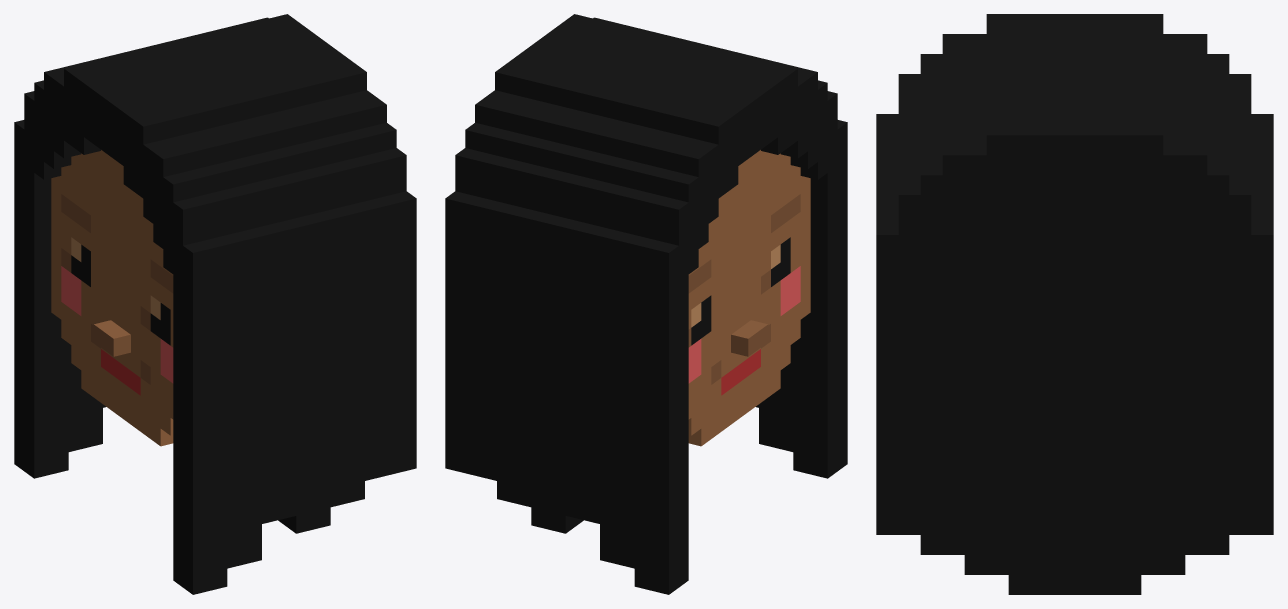
The model's file is Voxel Universe-11-Face.obj.
3 renders of one model, left to right at view 1: azimuth 30°, elevation 25°; view 2: azimuth 150°, elevation 25°; view 3: azimuth 270°, elevation 25°, orthographic. The views are drawn at different scales.
Parts seen in each view (by area): view 1: Face; view 2: Face; view 3: Face.
Part boxes in pixels (x1,y1,x2,y2): Face: [14, 14, 416, 594]; Face: [445, 14, 847, 594]; Face: [876, 14, 1273, 594].
Bounding box in the file's own units: 1.3 × 2.4 × 1.8.
Materials: 1 (1 with a texture image).
